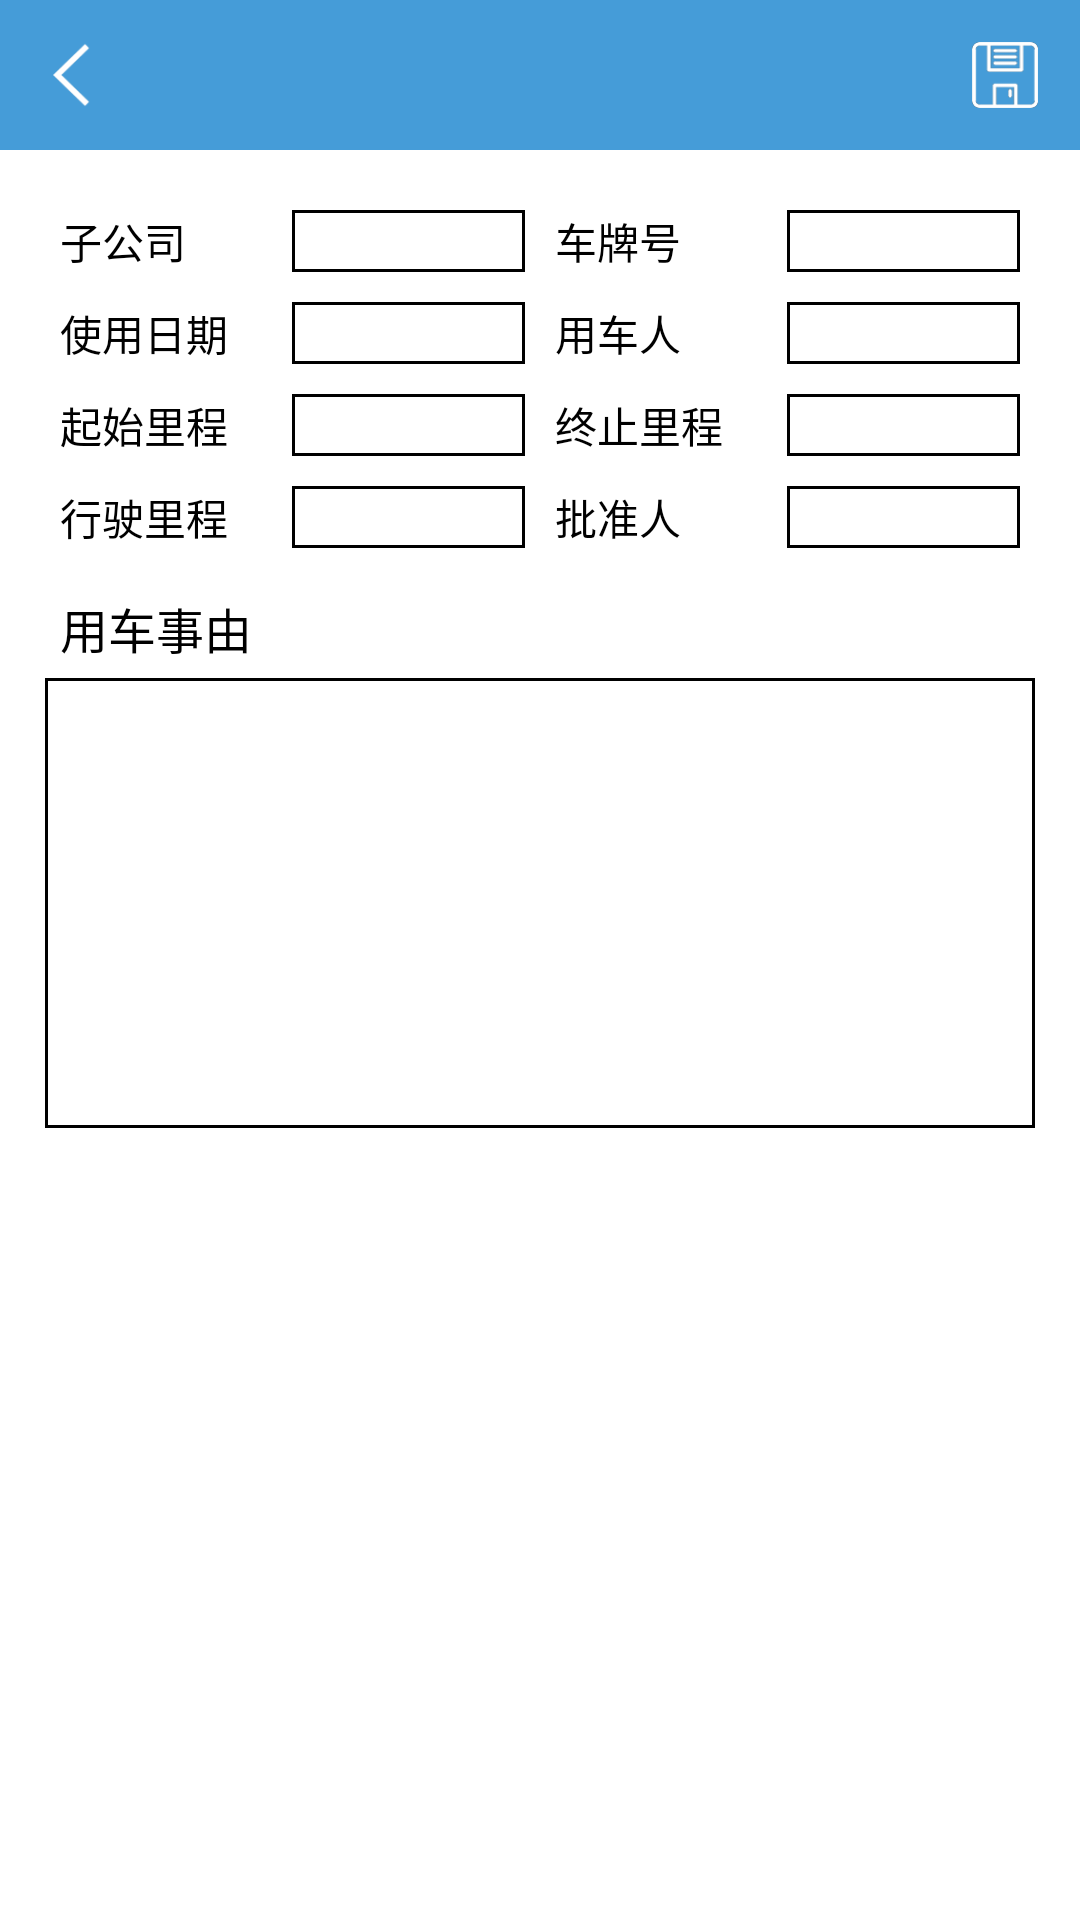

Point at icon controls on the screen. Image size 1080 × 1920, points as (x=x, y=y).
back: (x=71, y=75)
save: (x=1005, y=75)
